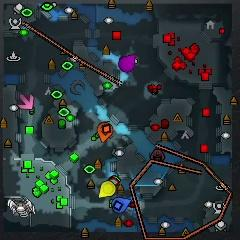p1: (112, 198, 129, 213)
p3: (119, 54, 138, 72)
p4: (96, 180, 117, 200)
p5: (96, 122, 114, 143)
x1: (17, 93, 35, 111)
